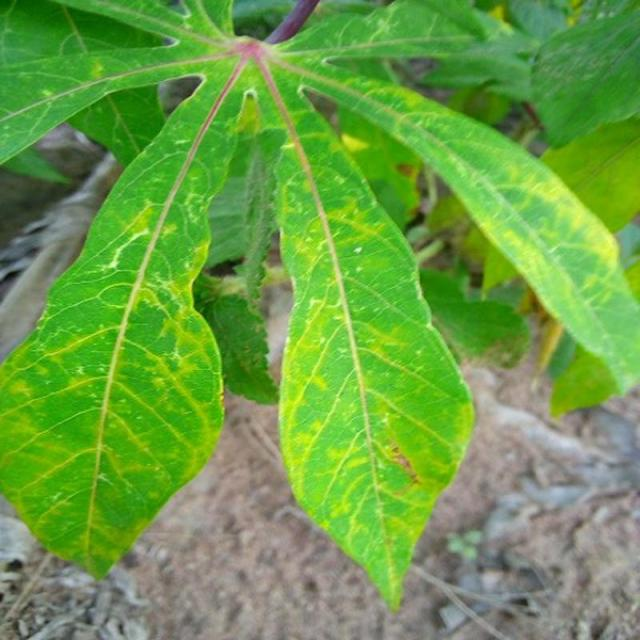cassava leaf: (0, 0, 638, 610), (0, 60, 241, 581), (266, 55, 476, 612)
